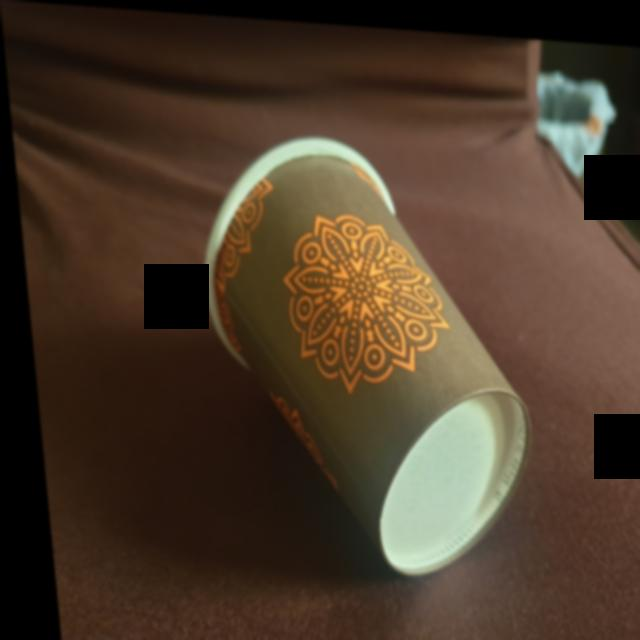cups: (176, 113, 543, 586)
